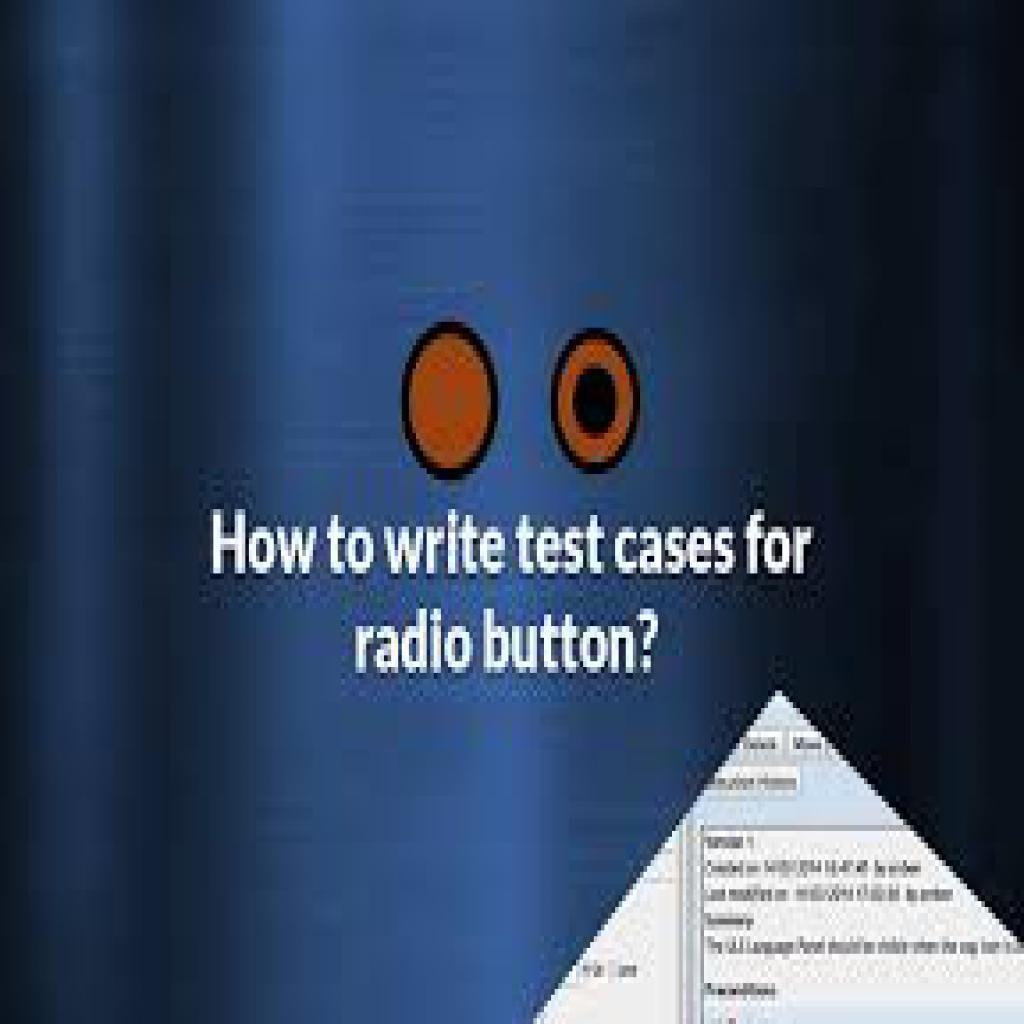radio: (392, 320, 518, 493), (545, 324, 658, 484)
